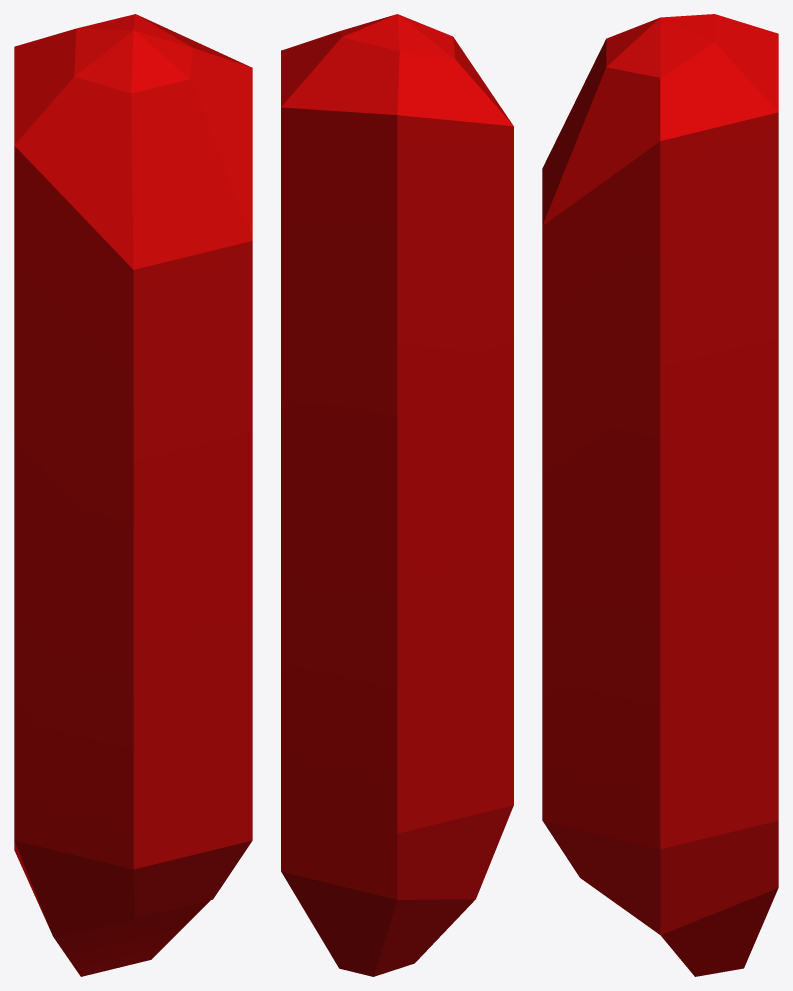
Rendered from geology-crystals-coloredcrystal_v11.fbx.
3 renders of one model, left to right at view 1: azimuth 30°, elevation 25°; view 2: azimuth 150°, elevation 25°; view 3: azimuth 270°, elevation 25°, orthographic. The views are drawn at different scales.
Parts seen in each view (by area): view 1: ColoredCrystal_v11; view 2: ColoredCrystal_v11; view 3: ColoredCrystal_v11.
Part boxes in pixels (x1,y1,x2,y2): ColoredCrystal_v11: (14, 14, 252, 976); ColoredCrystal_v11: (281, 14, 513, 976); ColoredCrystal_v11: (542, 14, 778, 976).
Bounding box in the file's own units: 2.01 × 7.66 × 1.74.
